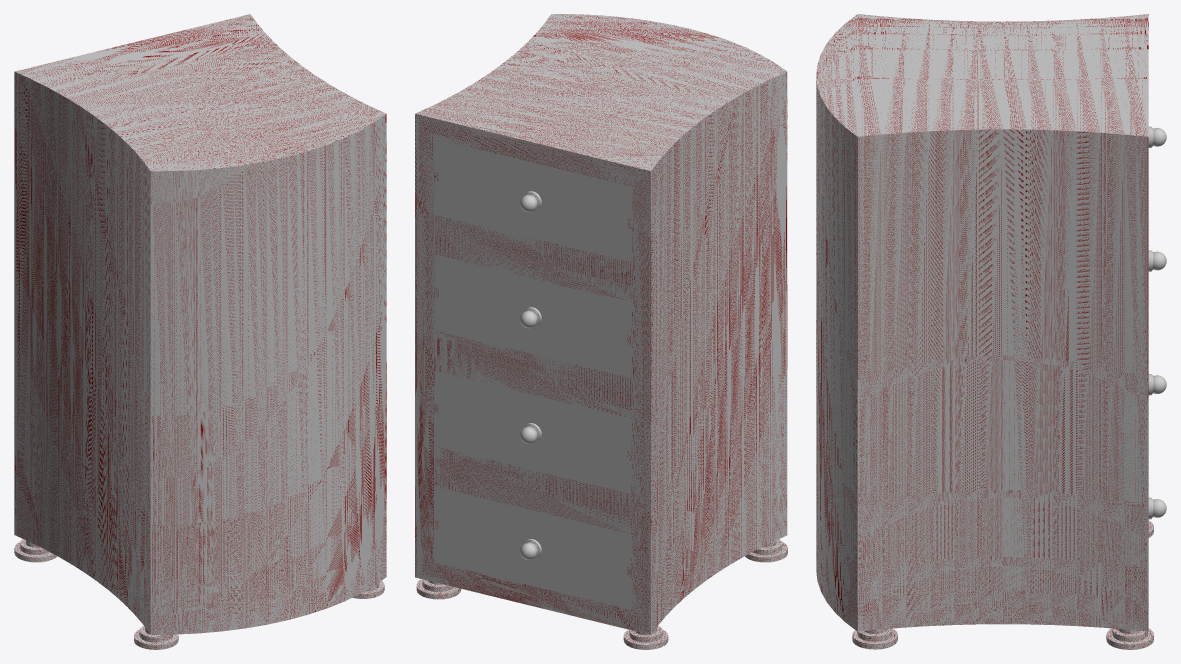
3 renders of one model, left to right at view 1: azimuth 30°, elevation 25°; view 2: azimuth 150°, elevation 25°; view 3: azimuth 270°, elevation 25°, orthographic. The views are drawn at different scales.
Visible parts, largest first — view 1: mesh25_mesh25-geometry; view 2: mesh25_mesh25-geometry, mesh1_mesh1-geometry, mesh2_mesh2-geometry; view 3: mesh25_mesh25-geometry, mesh2_mesh2-geometry, mesh1_mesh1-geometry.
Part boxes in pixels (box(x1,y1,x2,y2)): mesh25_mesh25-geometry: box(14, 14, 386, 649); mesh25_mesh25-geometry: box(415, 14, 787, 649); mesh1_mesh1-geometry: box(434, 138, 631, 609); mesh2_mesh2-geometry: box(520, 194, 537, 559); mesh25_mesh25-geometry: box(816, 14, 1153, 649); mesh2_mesh2-geometry: box(1153, 128, 1166, 517); mesh1_mesh1-geometry: box(1148, 126, 1157, 519).
Size of the model in its own units: 0.415 by 0.7726 by 0.4804.
